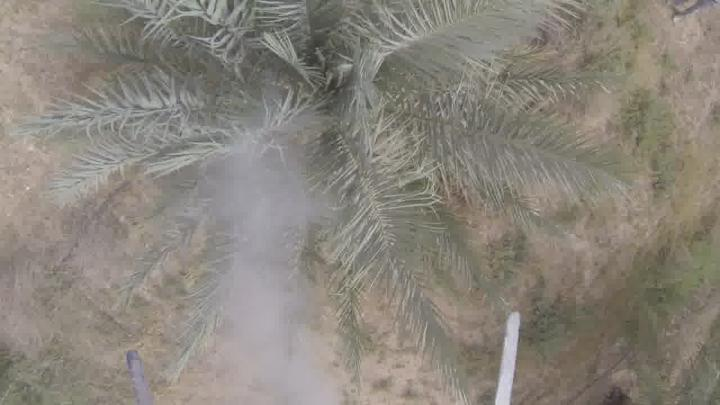Date-Palm-Crown: (160, 0, 466, 276)
